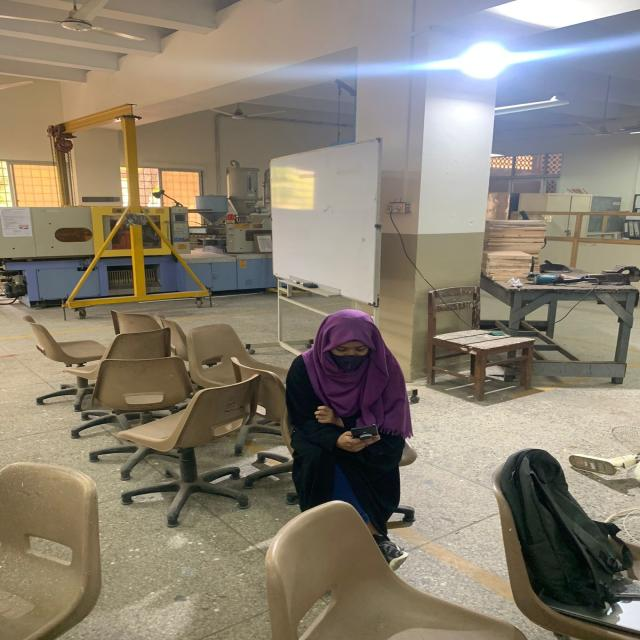dress: (280, 308, 415, 569)
